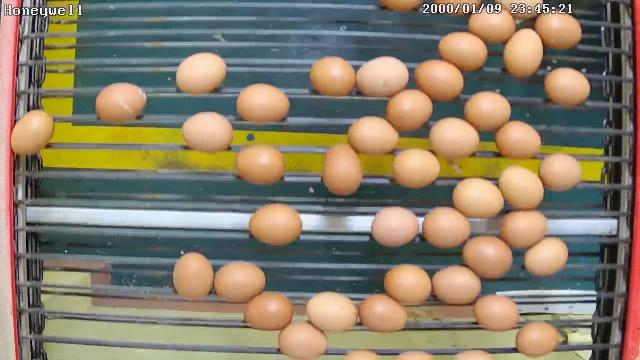egg: (234, 82, 292, 127), (248, 202, 304, 248), (461, 234, 514, 282), (180, 110, 235, 156), (354, 54, 410, 99), (8, 106, 56, 158), (304, 289, 358, 335), (94, 81, 149, 126), (170, 248, 215, 303), (174, 51, 228, 96), (321, 141, 364, 197), (412, 58, 466, 102), (212, 260, 268, 302), (232, 144, 288, 186), (429, 262, 482, 306), (389, 147, 442, 191), (450, 176, 504, 219), (428, 116, 480, 160), (368, 206, 421, 249), (533, 7, 583, 52), (420, 205, 470, 250), (382, 262, 432, 307), (384, 87, 434, 132), (438, 29, 490, 72), (346, 114, 399, 156), (463, 90, 513, 134), (498, 206, 548, 250), (465, 3, 517, 45), (498, 165, 546, 210), (276, 319, 330, 359), (242, 290, 292, 333), (502, 27, 544, 78), (522, 235, 570, 279), (309, 55, 357, 98), (543, 65, 591, 108), (493, 118, 542, 160), (358, 293, 408, 334), (538, 151, 584, 193), (514, 319, 562, 359), (473, 292, 520, 332)
